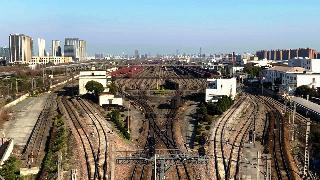train: (165, 79, 179, 89), (171, 95, 181, 108)
